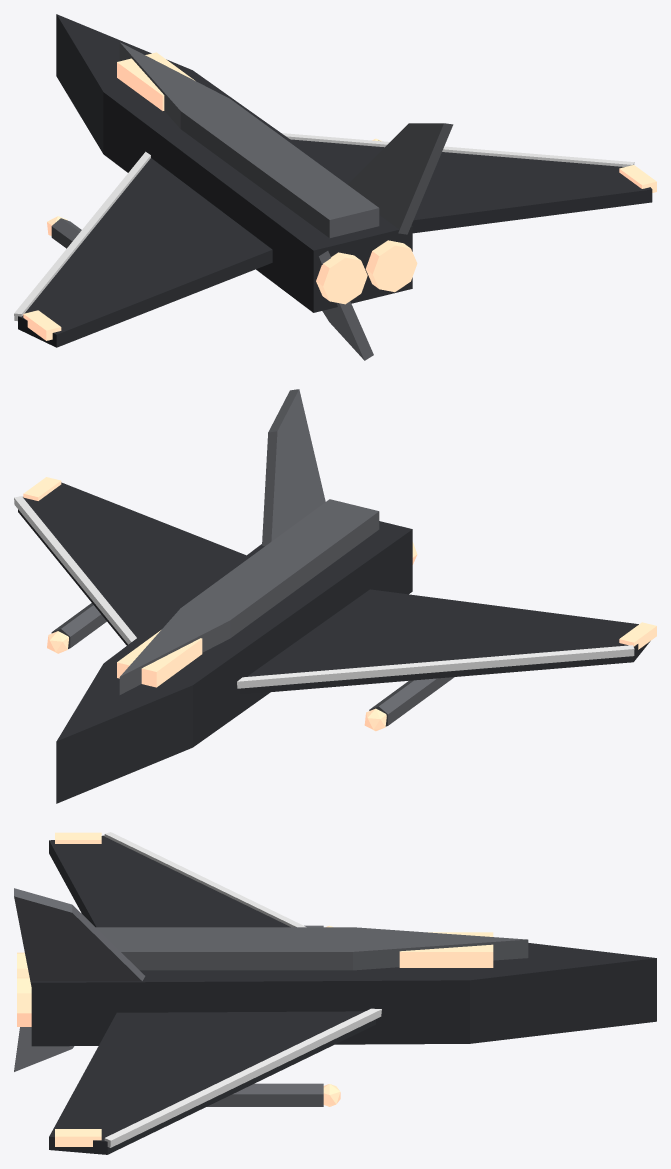
File: Aegis_Interceptor.fbx
The picture shows the model from 3 angles, top to bottom: view 1: azimuth 30°, elevation 25°; view 2: azimuth 150°, elevation 25°; view 3: azimuth 270°, elevation 25°; orthographic projection.
Visible parts, largest first — view 1: INT_Fuselage, INT_Wing-1, INT_Wing1, INT_Spine, INT_Fin1, INT_Engine1, INT_Engine-1, INT_WingTrim1, INT_WingTrim-1, INT_Fin-1, INT_Canopy, INT_WingLight-1 (+2 smaller); view 2: INT_Fuselage, INT_Wing-1, INT_Wing1, INT_Spine, INT_Fin1, INT_WingTrim-1, INT_WingTrim1, INT_Canopy, INT_Missile-1, INT_Missile1, INT_WingLight-1; view 3: INT_Fuselage, INT_Wing1, INT_Spine, INT_Wing-1, INT_Fin1, INT_WingTrim1, INT_Missile1, INT_Canopy, INT_WingTrim-1, INT_Fin-1, INT_WingLight1, INT_Engine1 (+1 smaller).
Boxes of the visible parts, box(x1,y1,x2,y2) form: INT_Fuselage: box(56, 14, 412, 312); INT_Wing-1: box(18, 158, 272, 347); INT_Wing1: box(290, 139, 652, 233); INT_Spine: box(119, 42, 379, 237); INT_Fin1: box(347, 123, 453, 234); INT_Engine1: box(365, 240, 417, 292); INT_Engine-1: box(316, 252, 367, 304); INT_WingTrim1: box(281, 133, 634, 166); INT_WingTrim-1: box(14, 151, 150, 321); INT_Fin-1: box(319, 251, 373, 360); INT_Canopy: box(117, 52, 194, 110); INT_WingLight-1: box(23, 310, 61, 340); INT_Fuselage: box(56, 521, 412, 803); INT_Wing-1: box(240, 589, 650, 694); INT_Wing1: box(18, 482, 246, 645); INT_Spine: box(119, 499, 379, 694); INT_Fin1: box(262, 389, 325, 546); INT_WingTrim-1: box(237, 645, 634, 688); INT_WingTrim1: box(14, 496, 136, 644); INT_Canopy: box(117, 630, 202, 687); INT_Missile-1: box(369, 677, 454, 726); INT_Missile1: box(51, 603, 106, 648); INT_WingLight-1: box(619, 622, 656, 649); INT_Fuselage: box(31, 943, 656, 1046); INT_Wing1: box(49, 1011, 375, 1154); INT_Spine: box(96, 927, 528, 970); INT_Wing-1: box(49, 835, 290, 927); INT_Fin1: box(14, 888, 145, 986); INT_WingTrim1: box(104, 1008, 381, 1147); INT_Missile1: box(207, 1083, 323, 1106); INT_Canopy: box(399, 932, 493, 967); INT_WingTrim-1: box(104, 832, 306, 927); INT_Fin-1: box(14, 1027, 74, 1071); INT_WingLight1: box(55, 1129, 101, 1146); INT_Engine1: box(17, 977, 31, 1026).
Size of the model in its own units: 1.25 by 0.4203 by 1.1.
